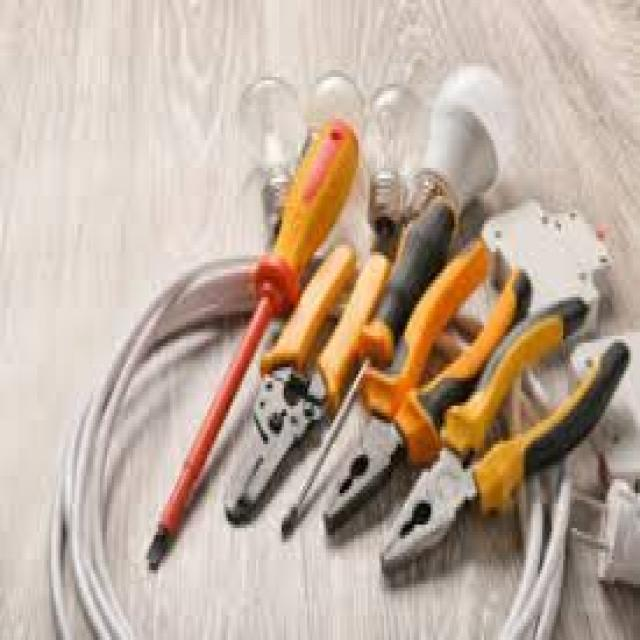screwdriver: (143, 114, 360, 576), (280, 197, 462, 544)
